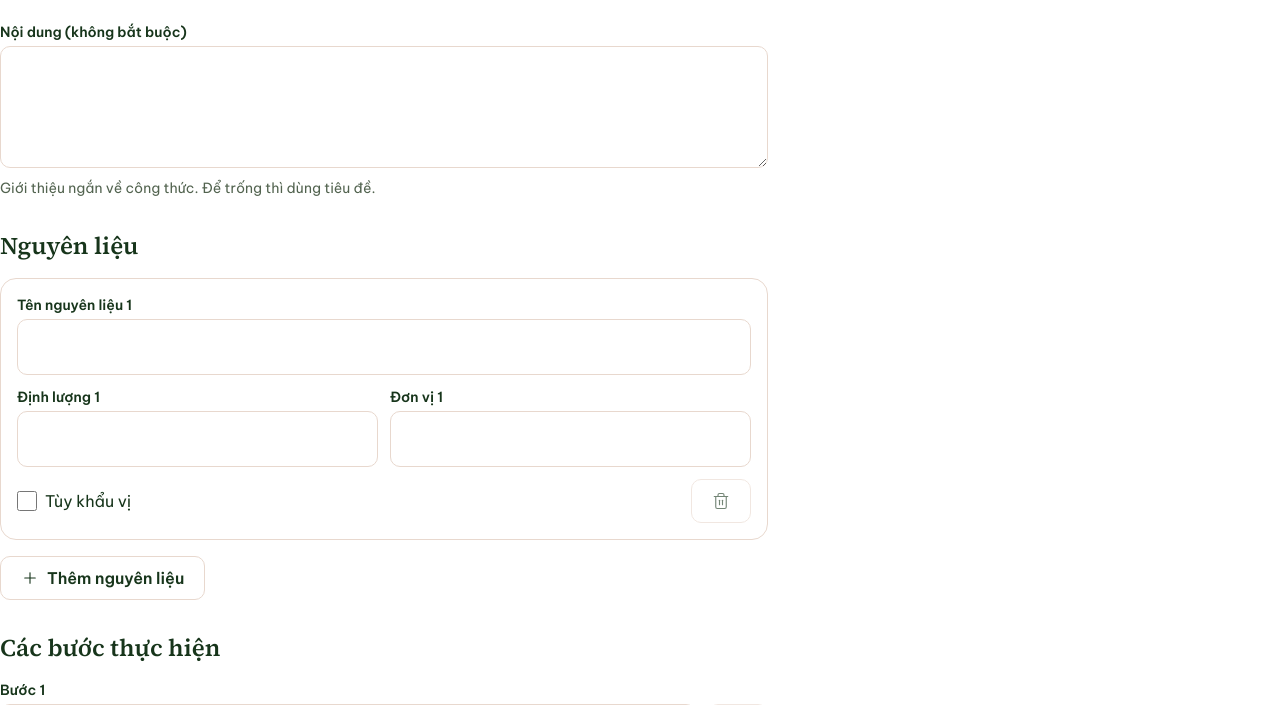
CreatePostPage › keeps the form when the re-login dialog is cancelled
Earlier steps of the test are not shown.
(page scrolled)
Type "Xương bò" into the field labelled "Tên nguyên liệu 1" at (384, 347), box x1=17 y1=319 x2=751 y2=375
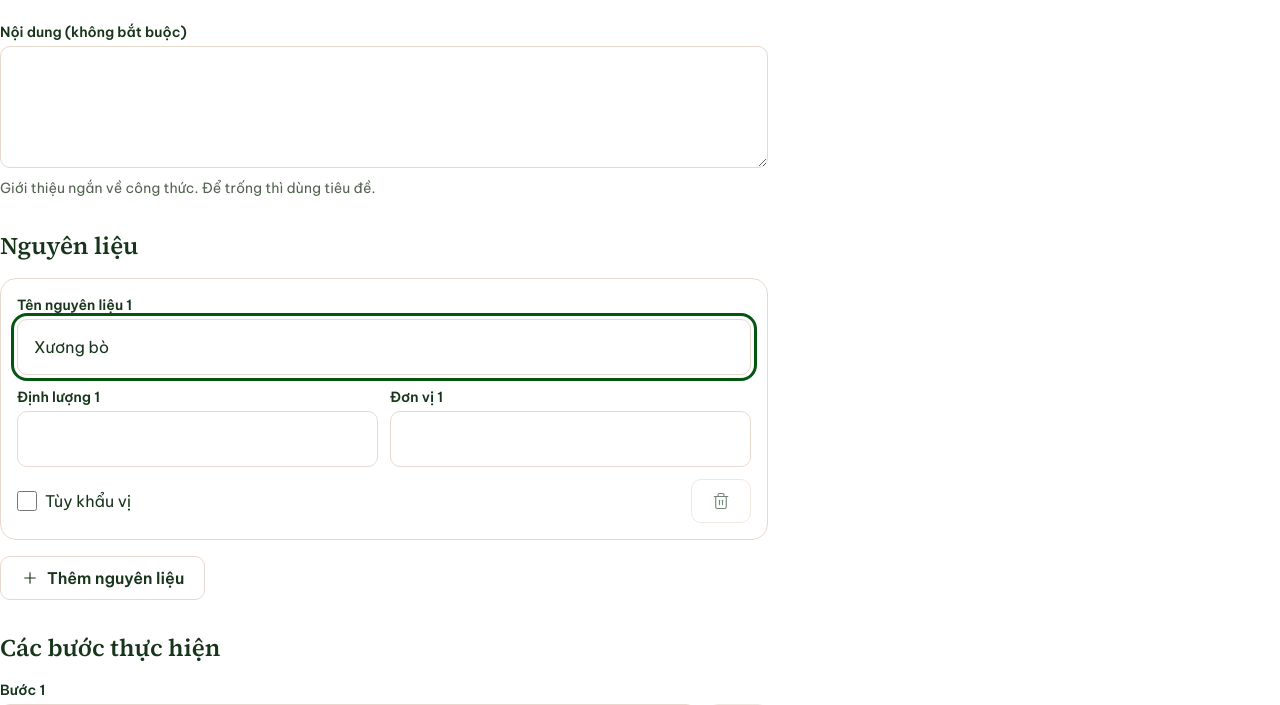
Type "1,5" into the field labelled "Định lượng 1" at (198, 439), box x1=17 y1=411 x2=378 y2=467
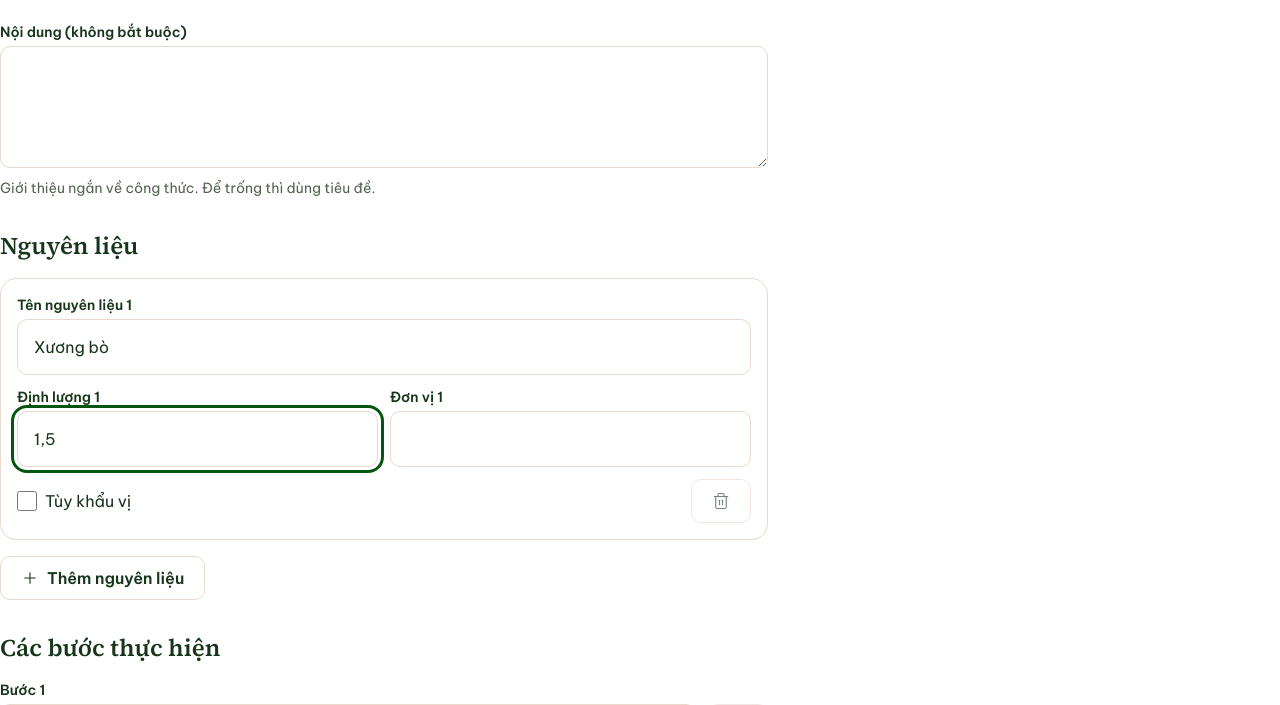
Type "kg" into the field labelled "Đơn vị 1" at (570, 439), box x1=390 y1=411 x2=751 y2=467
(page scrolled)
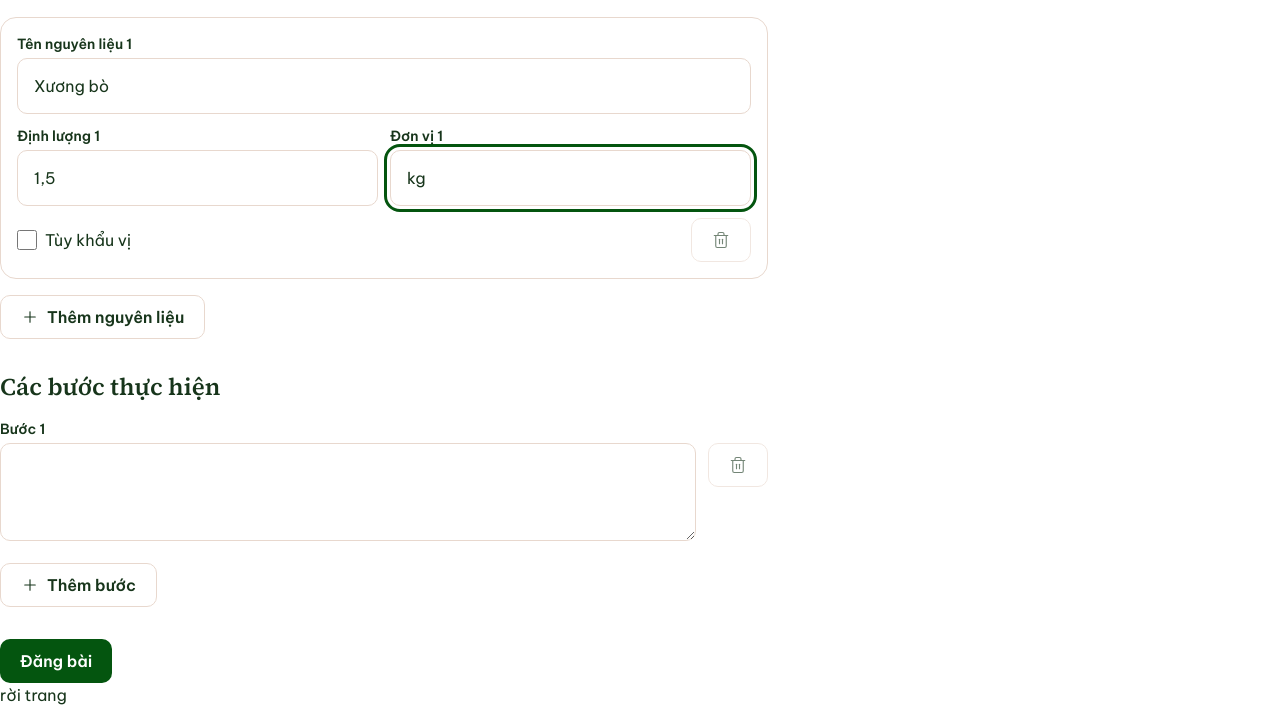
Type "Ninh xương" into the text box labelled "Bước 1" at (348, 492), box x1=0 y1=443 x2=696 y2=541
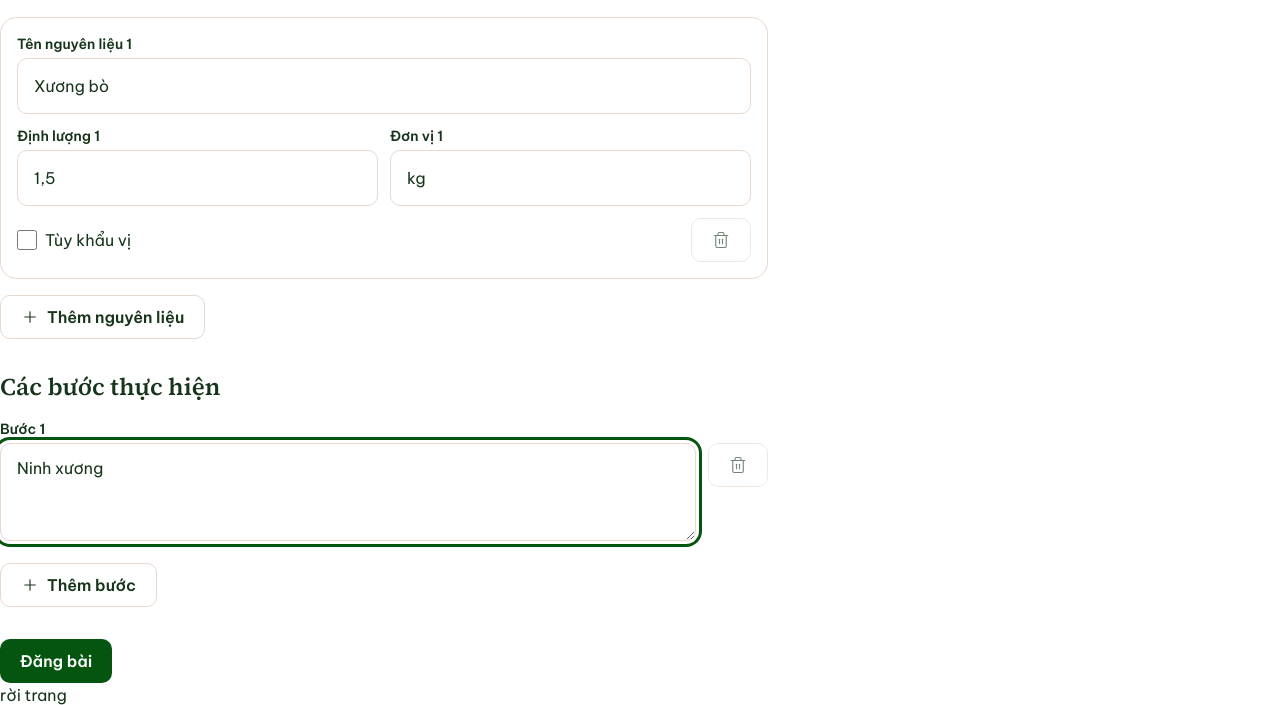
Click the button "Đăng bài" at (56, 661), box x1=0 y1=639 x2=112 y2=683
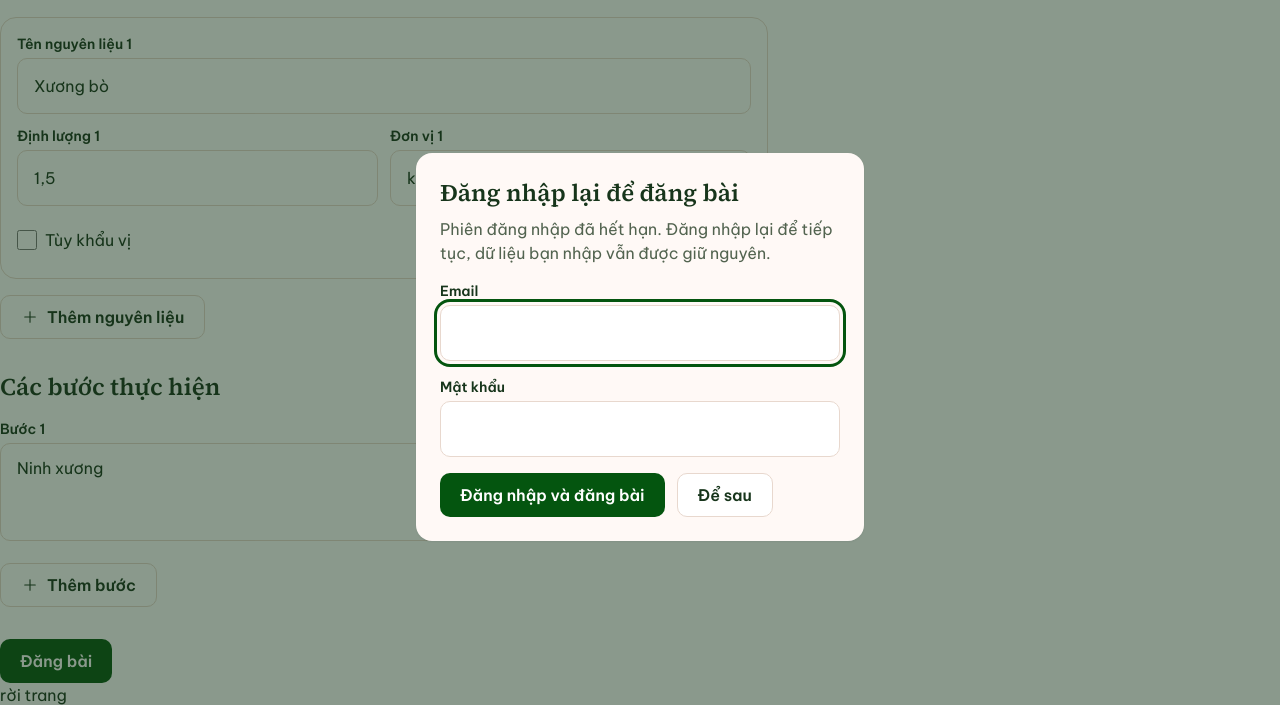
Click the button "Để sau" at (725, 495), box x1=677 y1=473 x2=773 y2=517
(page scrolled)
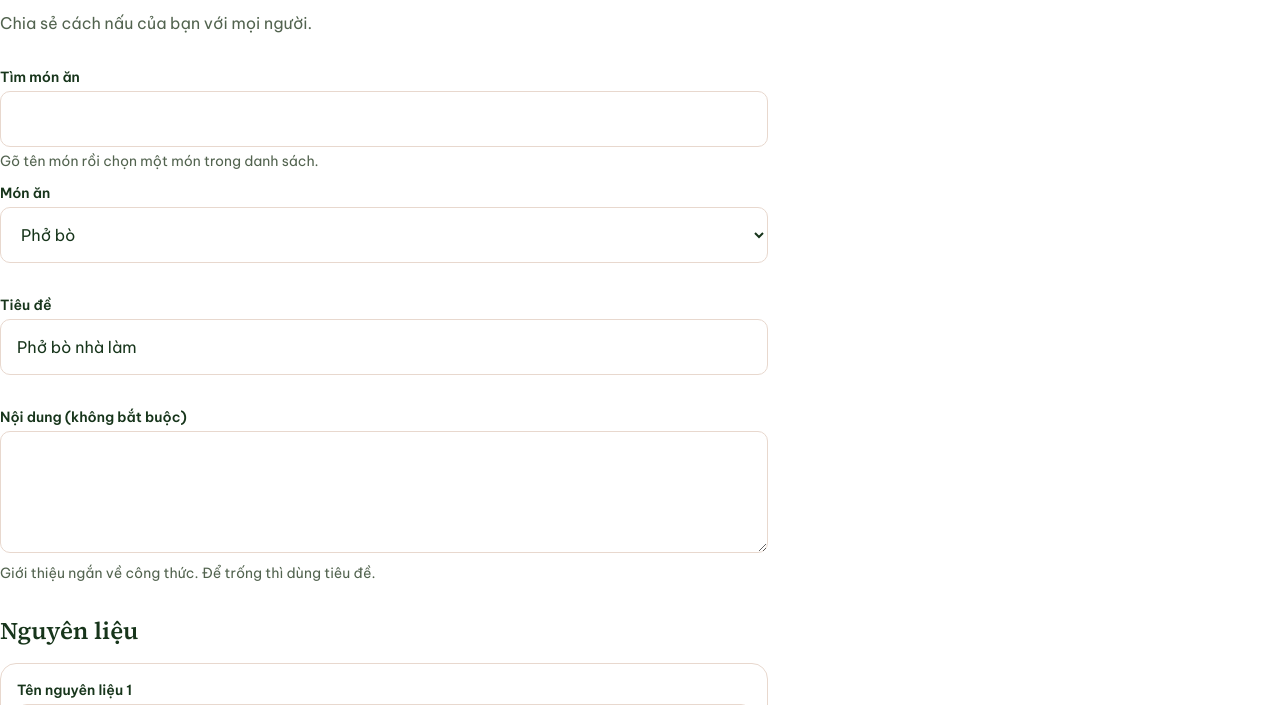
Expected: the dialog is gone
